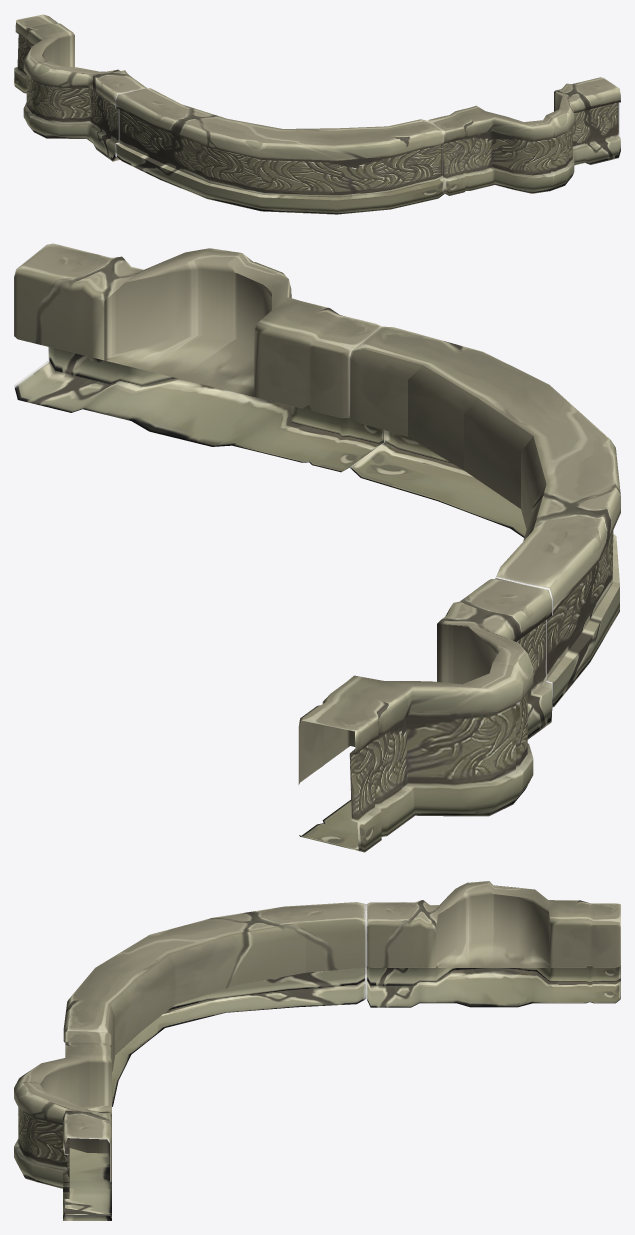
The model's file is convex_connected_1.fbx.
3 views of the same model, one above another, from view 1: azimuth 30°, elevation 25°; view 2: azimuth 150°, elevation 25°; view 3: azimuth 270°, elevation 25° (orthographic). The views are drawn at different scales.
Visible parts, largest first — view 1: polySurface108; view 2: polySurface108; view 3: polySurface108.
Boxes of the visible parts, x1,y1,x2,y2 form: polySurface108: (14, 14, 620, 214); polySurface108: (14, 243, 620, 852); polySurface108: (14, 881, 620, 1220).
Bounding box in the file's own units: 4.77 × 0.771 × 4.77.
